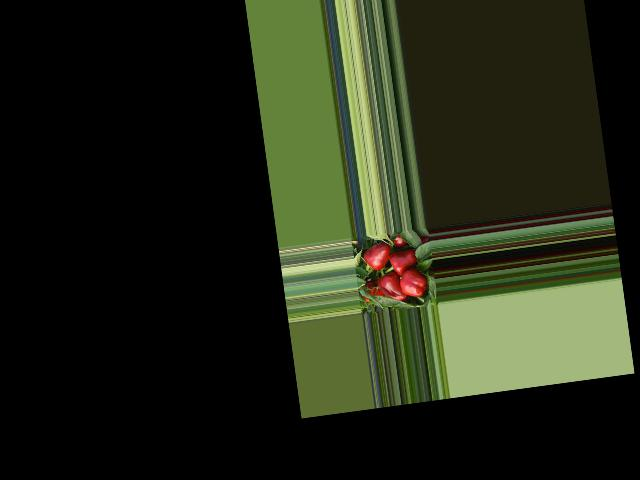bell_pepper: (397, 260, 428, 301)
